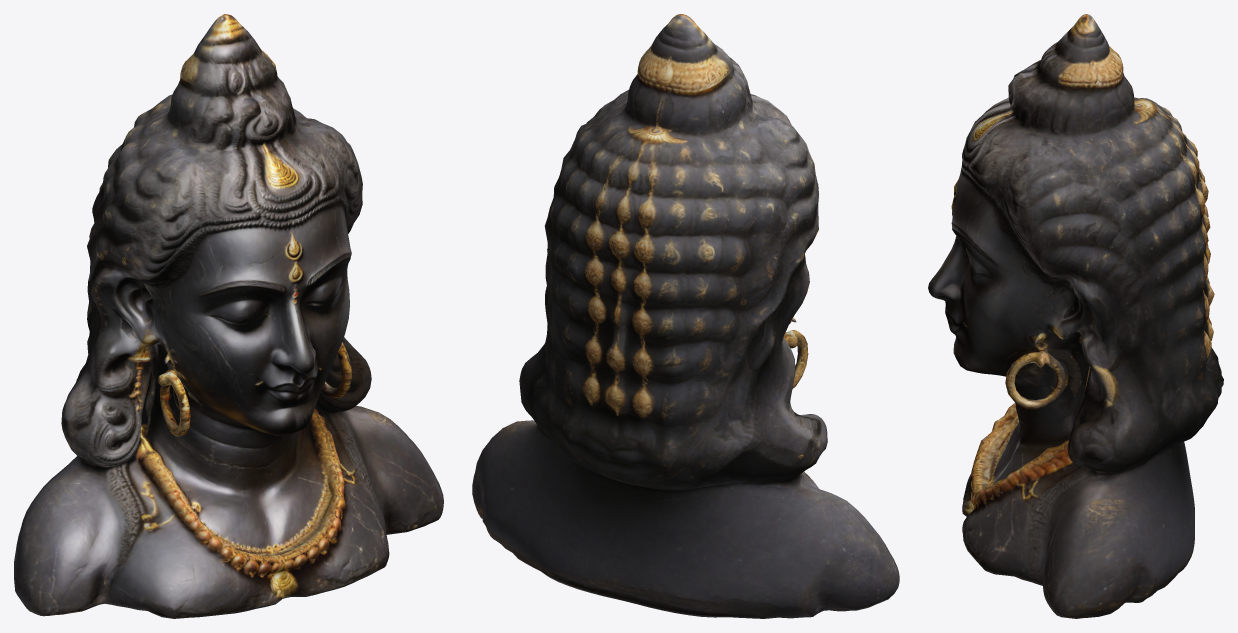
The model's file is _Black_stone_bust_of__0313092145_texture.glb.
3 views of the same model, side by side, from view 1: azimuth 30°, elevation 25°; view 2: azimuth 150°, elevation 25°; view 3: azimuth 270°, elevation 25° (orthographic). The views are drawn at different scales.
Size of the model in its own units: 1.57 by 1.99 by 1.03.
Materials: 1 (1 with a texture image).
